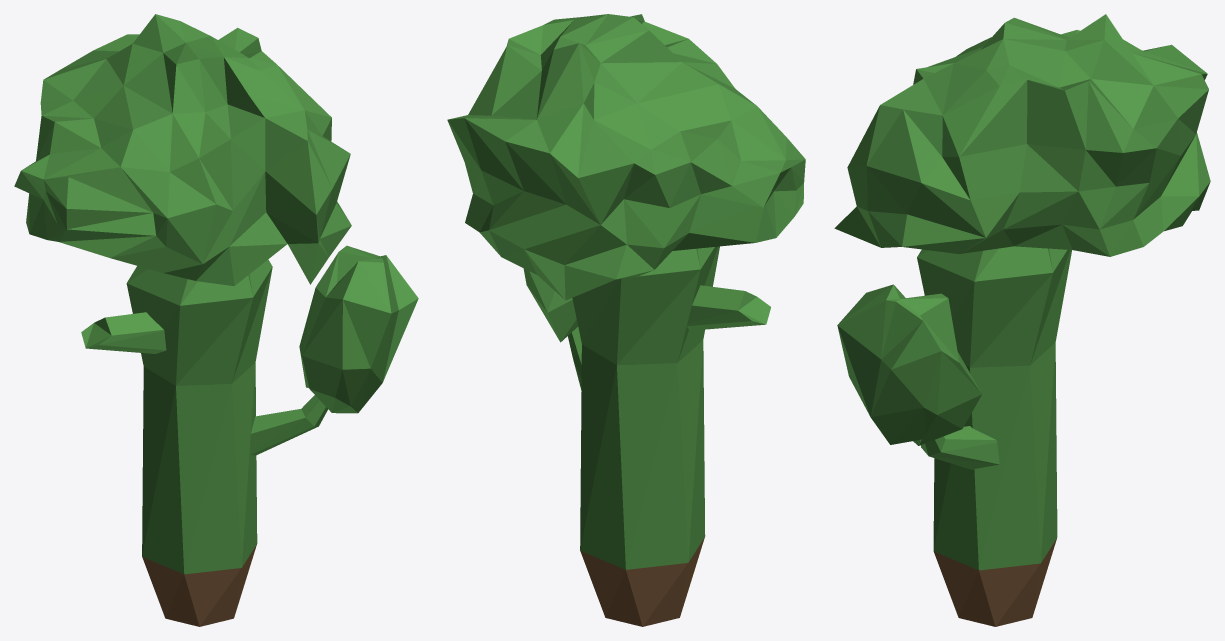
File: tree3d-075.glb
3 views of the same model, side by side, from view 1: azimuth 30°, elevation 25°; view 2: azimuth 150°, elevation 25°; view 3: azimuth 270°, elevation 25° (orthographic). The views are drawn at different scales.
Visible parts, largest first — view 1: tree3d-075; view 2: tree3d-075; view 3: tree3d-075.
Boxes of the visible parts, x1,y1,x2,y2 form: tree3d-075: [14, 14, 418, 626]; tree3d-075: [447, 14, 805, 626]; tree3d-075: [834, 14, 1210, 626].
Size of the model in its own units: 0.6076 by 1 by 0.5698.
